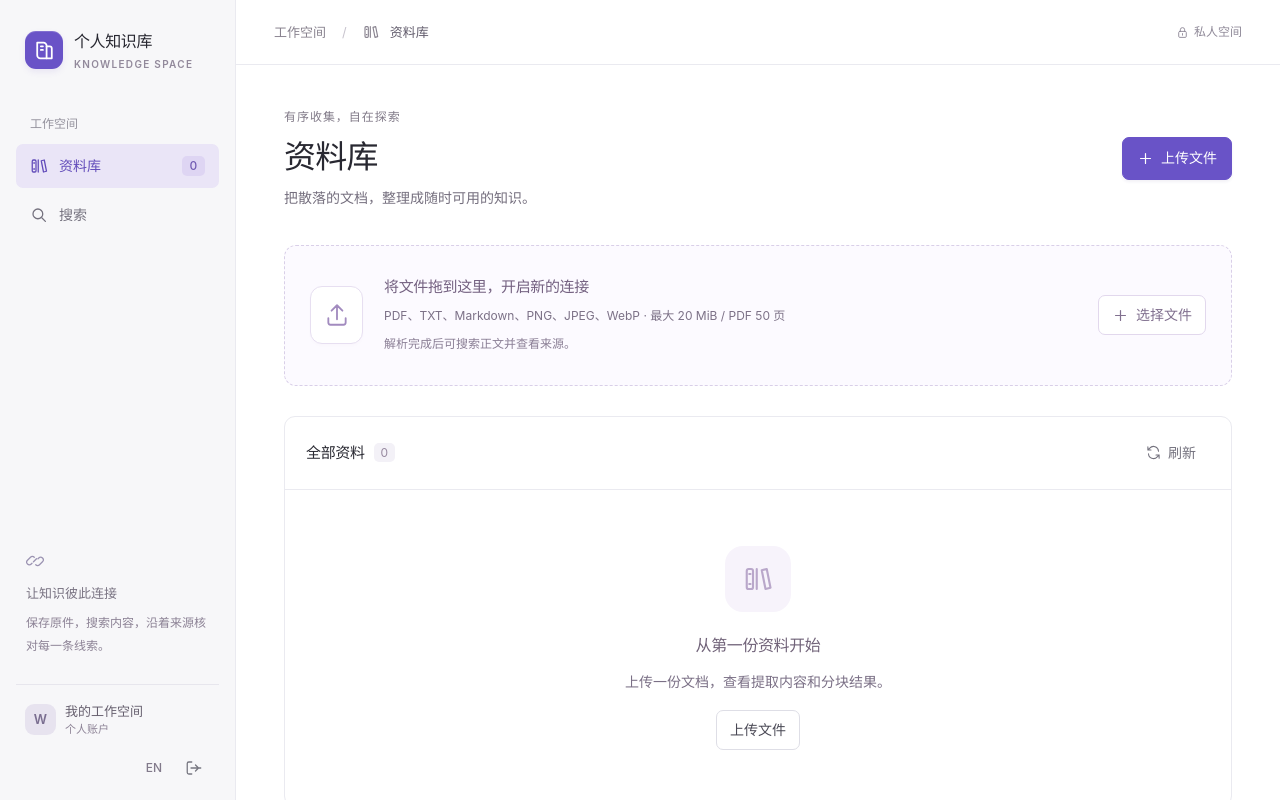
Test: Document workspace › ignores an older search response after a new search completes
Click the button "搜索" at (118, 215), box [16,193,219,238]
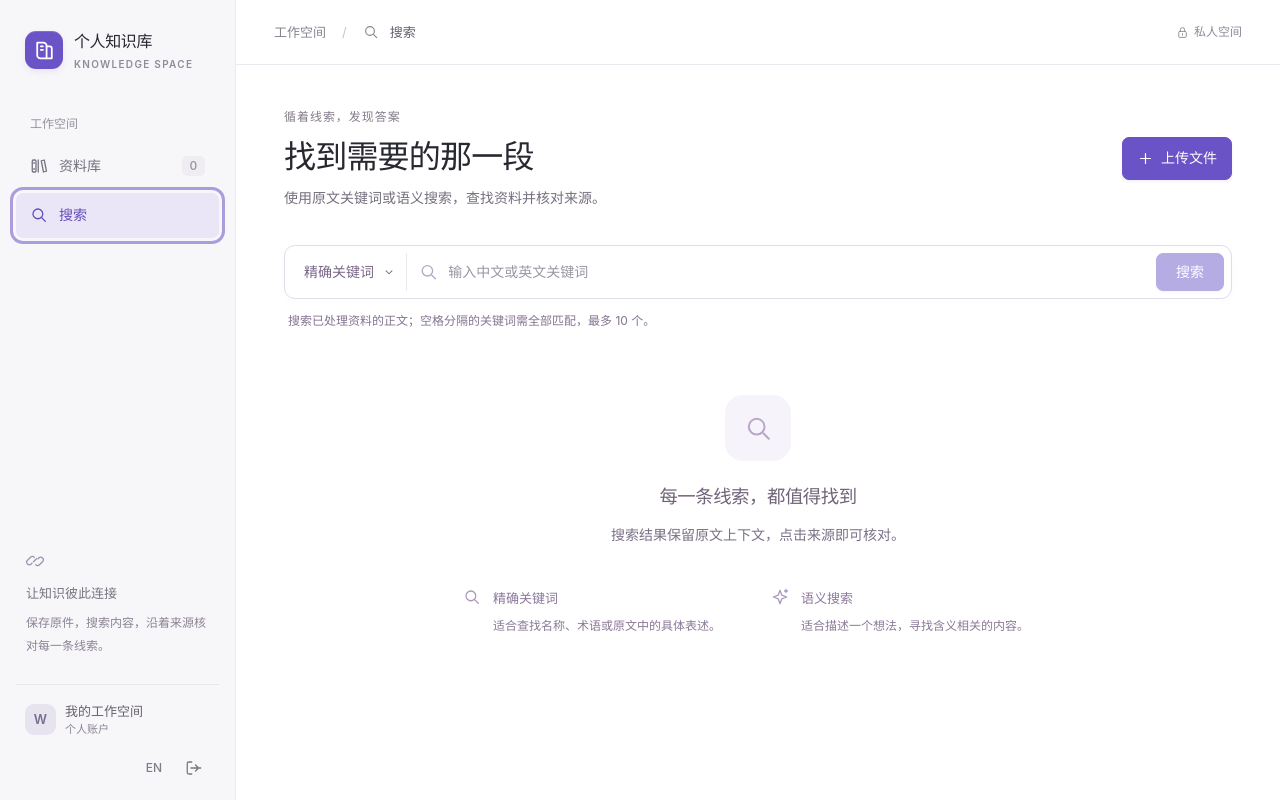
Select "精确关键词" in the dropdown named "搜索模式" at (350, 272), box [292,253,407,291]
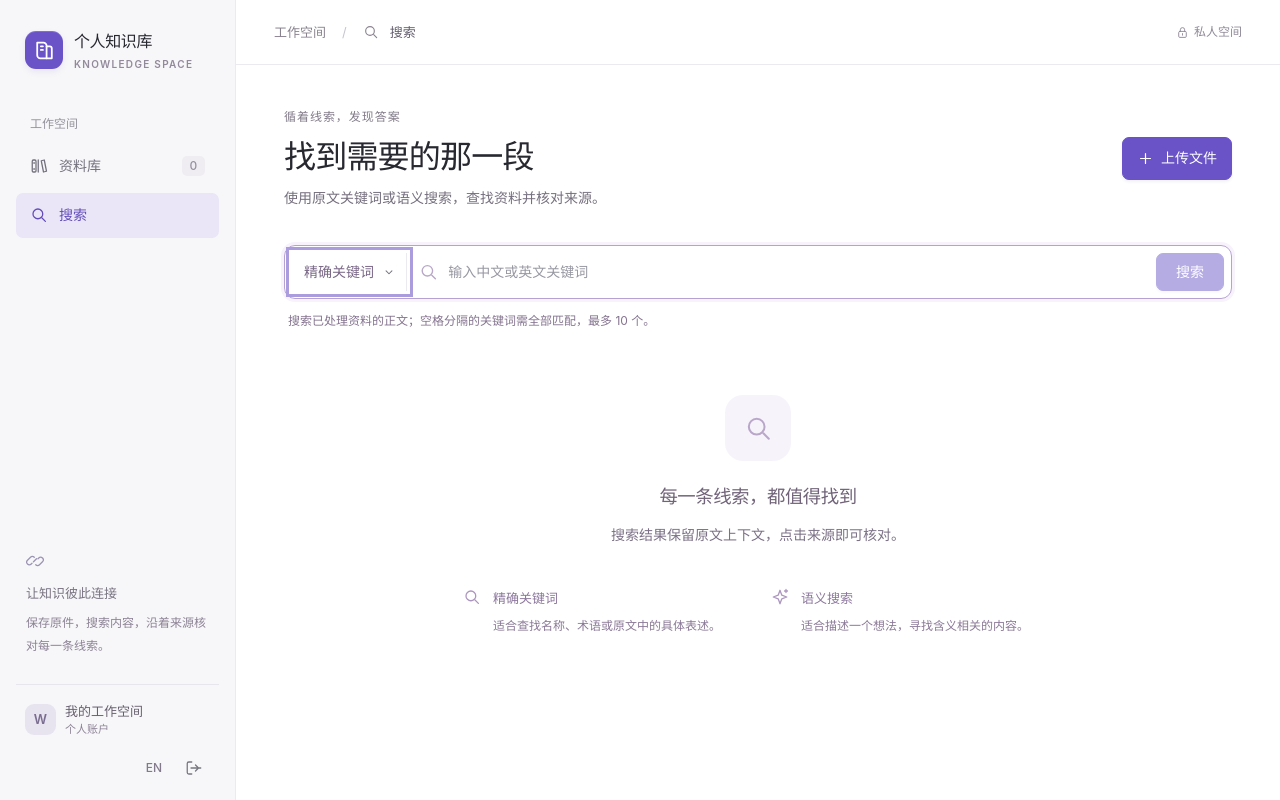
Type "old" into the search field at (798, 272), box [448,254,1147,290]
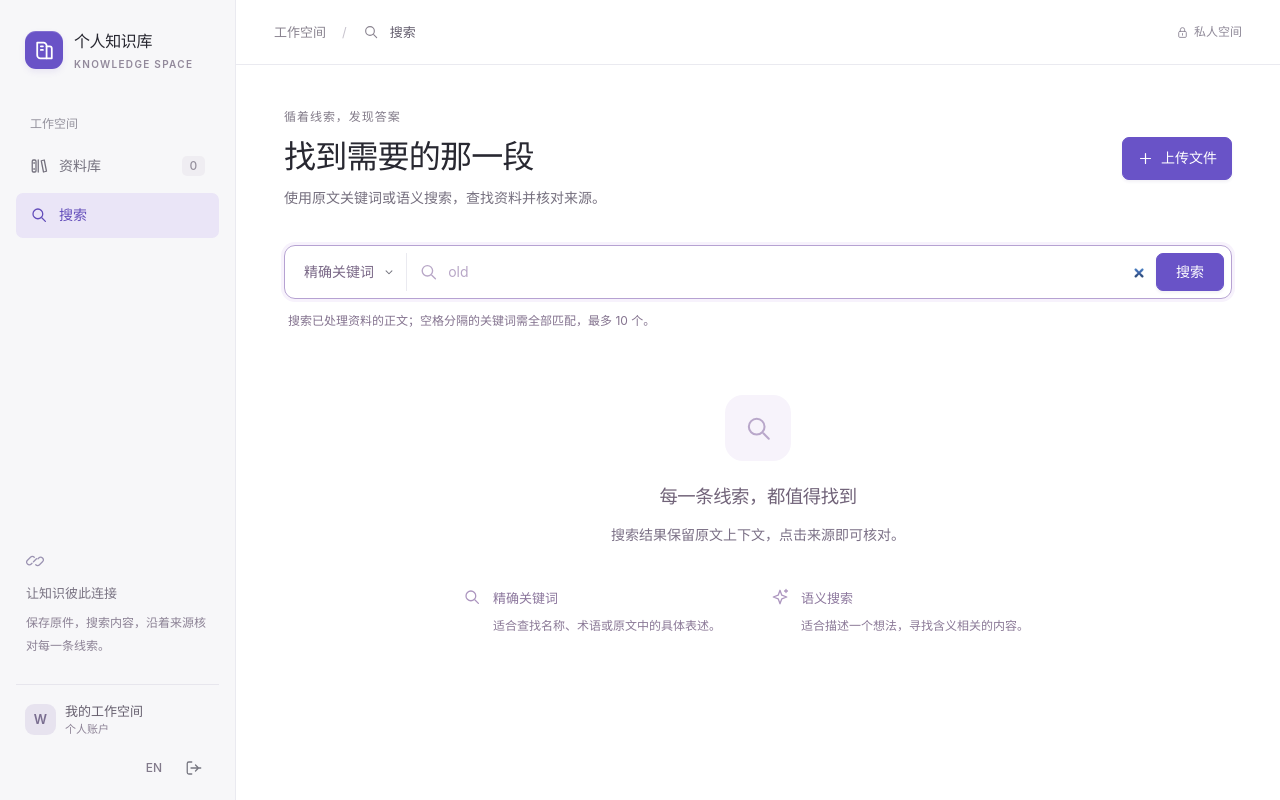
Click the button "搜索" below "私人空间" at (1190, 272), box [1156,253,1224,291]
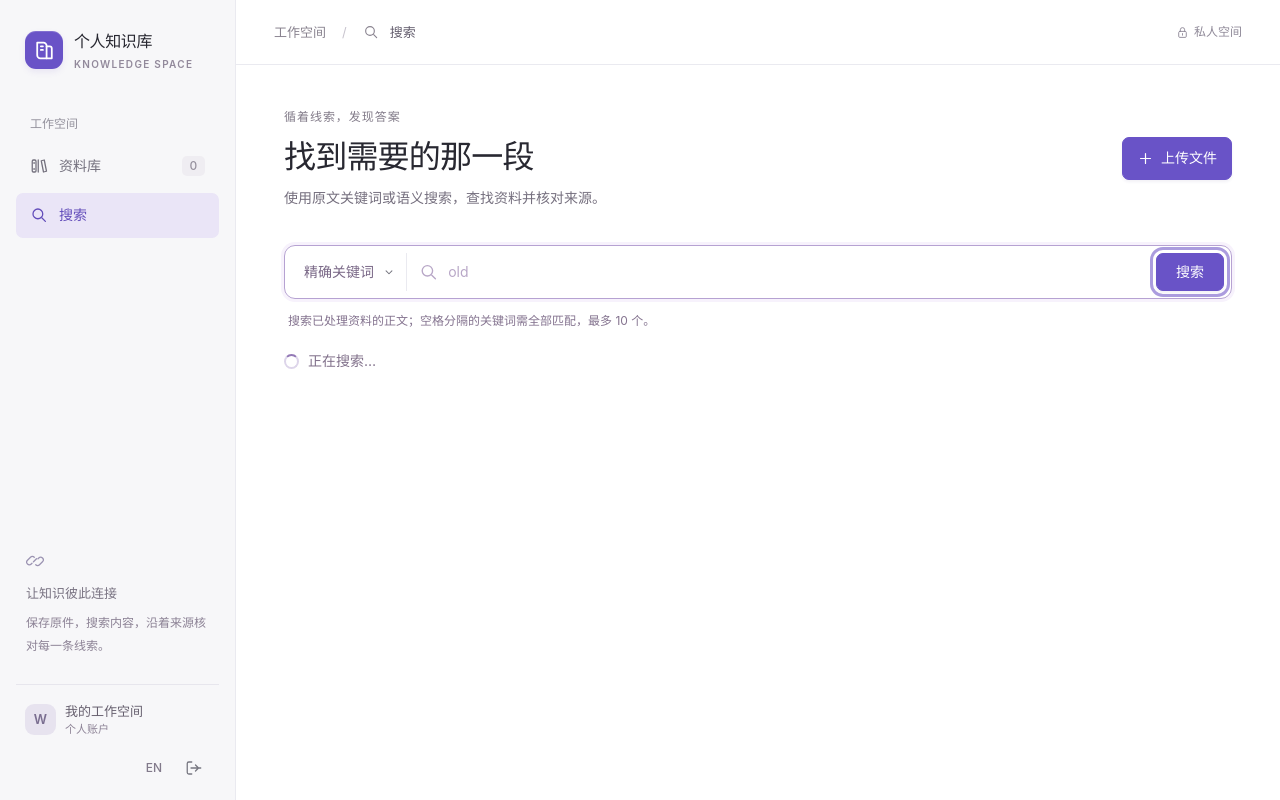
Replace the text in the search field with "new" at (798, 272), box [448,254,1147,290]
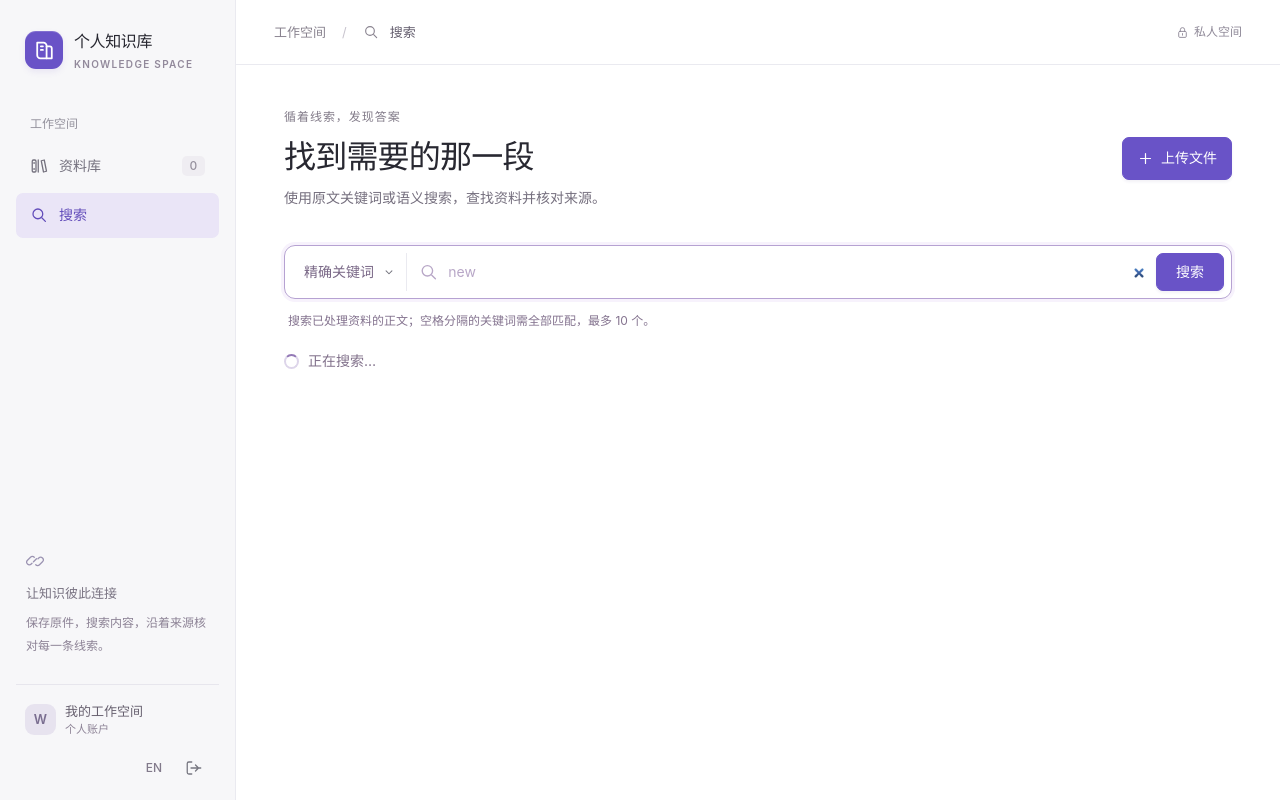
Click the button "搜索" below "私人空间" at (1190, 272), box [1156,253,1224,291]
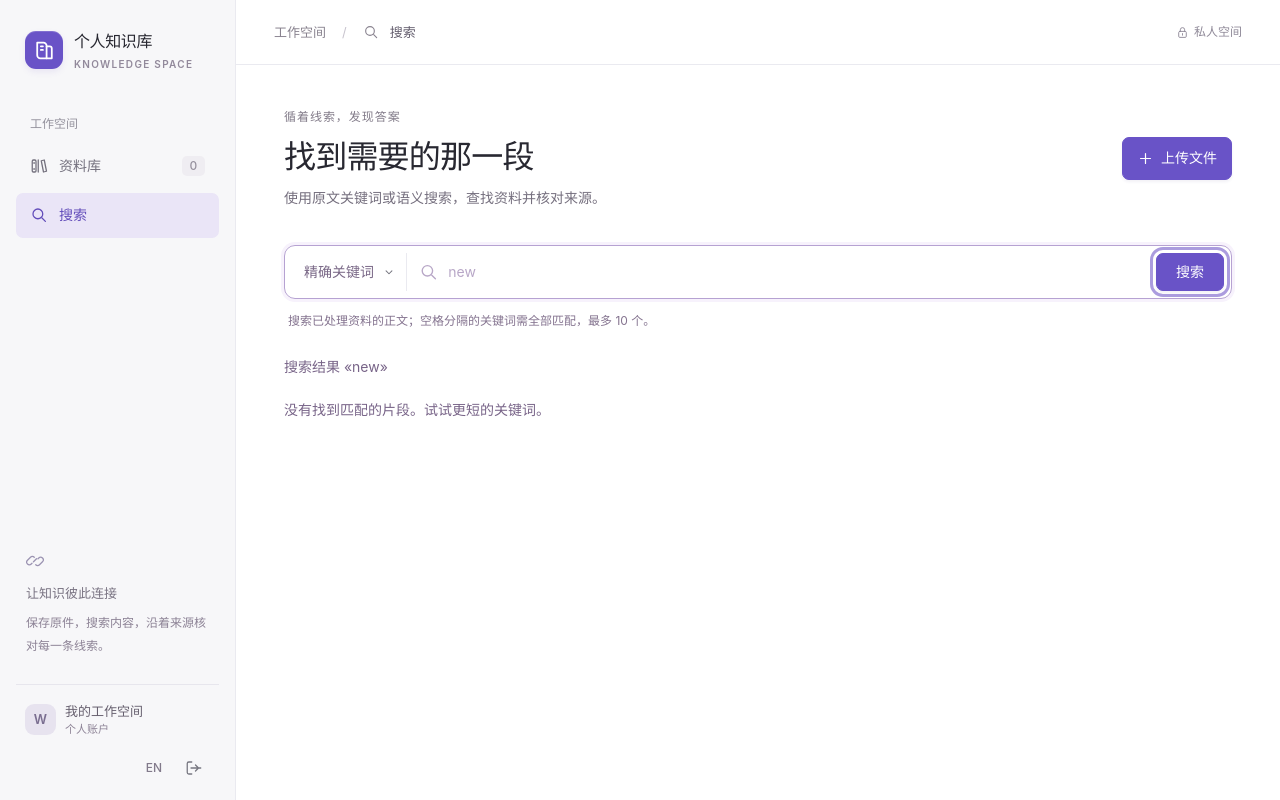
Expected: the text "没有找到匹配的片段。试试更短的关键词。" is shown, [284,401,550,418]
Expected: the text "搜索结果 «new»" is shown, [284,358,388,375]
